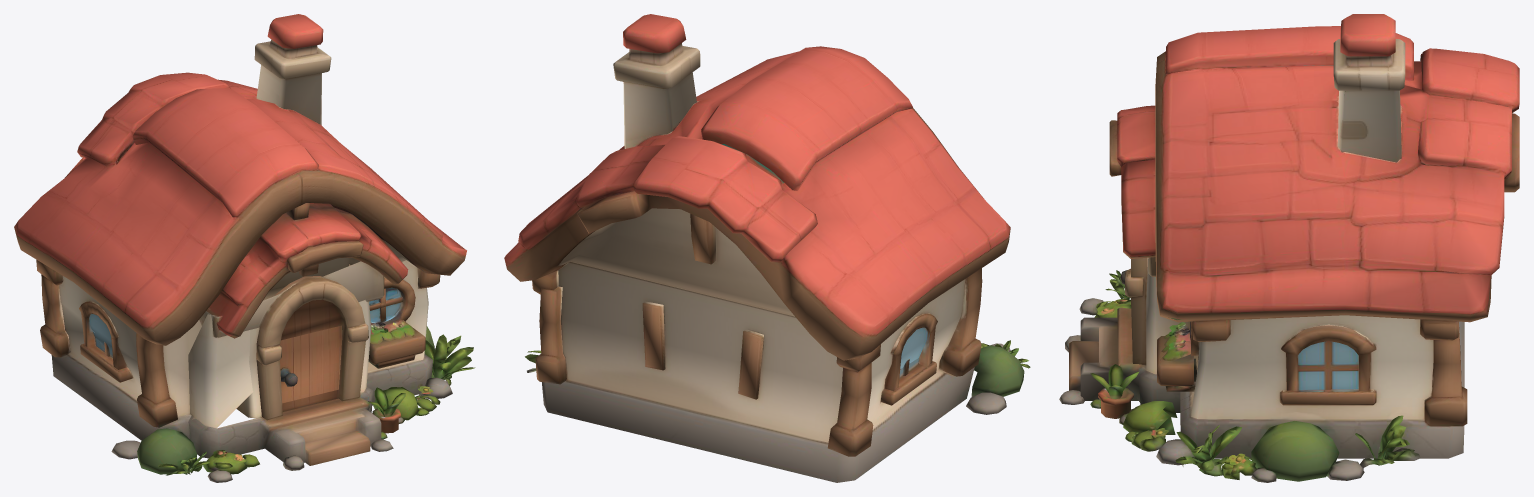
Rendered from coral-cottage.glb.
The picture shows the model from 3 angles, left to right: view 1: azimuth 30°, elevation 25°; view 2: azimuth 150°, elevation 25°; view 3: azimuth 270°, elevation 25°; orthographic projection. The views are drawn at different scales.
Visible parts, largest first — view 1: Coral Cottage; view 2: Coral Cottage; view 3: Coral Cottage.
Part boxes in pixels (x1,y1,x2,y2): Coral Cottage: (14, 14, 475, 482); Coral Cottage: (504, 14, 1030, 482); Coral Cottage: (1059, 14, 1519, 482).
Bounding box in the file's own units: 0.998 × 0.8887 × 0.9277.
Materials: 1 (1 with a texture image).
